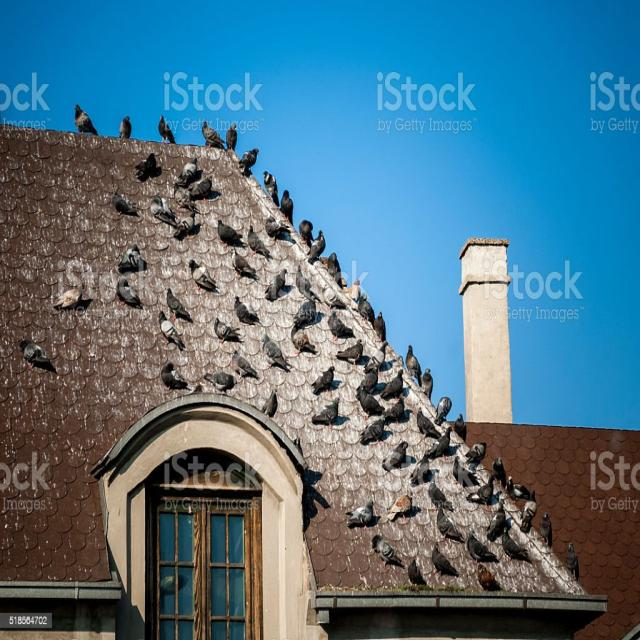bird: (17, 338, 58, 374), (260, 332, 293, 374), (372, 533, 406, 571), (188, 258, 220, 296), (436, 505, 467, 544), (158, 311, 186, 353), (466, 532, 500, 566), (213, 316, 246, 351), (501, 530, 533, 565), (465, 472, 496, 507), (233, 295, 262, 332), (231, 247, 260, 284), (231, 350, 262, 384), (431, 543, 460, 579), (166, 286, 193, 324), (426, 424, 453, 462), (346, 498, 378, 530), (111, 188, 141, 222), (117, 243, 148, 275), (246, 224, 272, 262), (328, 308, 356, 343), (311, 395, 340, 428), (382, 439, 409, 474), (160, 361, 190, 392), (356, 386, 385, 418), (116, 277, 144, 310), (134, 151, 162, 184), (416, 406, 442, 441), (173, 157, 200, 190), (217, 218, 244, 251), (150, 193, 177, 226), (73, 102, 99, 136), (203, 368, 237, 394), (335, 338, 364, 367), (52, 285, 82, 313), (291, 328, 319, 358), (264, 267, 288, 302), (359, 416, 387, 446), (379, 370, 405, 402), (292, 298, 317, 331), (476, 562, 503, 592), (404, 342, 423, 384), (387, 494, 413, 524), (311, 365, 335, 397), (326, 251, 345, 291), (201, 120, 226, 150), (186, 175, 213, 202), (307, 228, 327, 264), (506, 476, 531, 504), (262, 170, 280, 208), (238, 147, 260, 178), (407, 556, 427, 590), (519, 499, 538, 534), (365, 341, 387, 371), (565, 541, 580, 584), (358, 366, 379, 396), (268, 224, 295, 247), (357, 292, 375, 326), (294, 264, 312, 298), (279, 189, 295, 227), (433, 395, 452, 427), (157, 114, 176, 145), (464, 441, 488, 465), (492, 455, 508, 490), (539, 512, 553, 550), (298, 218, 314, 250), (420, 367, 434, 401), (453, 412, 468, 443), (262, 390, 278, 419), (225, 121, 239, 153), (373, 310, 387, 342), (348, 277, 362, 305), (118, 115, 133, 141)
